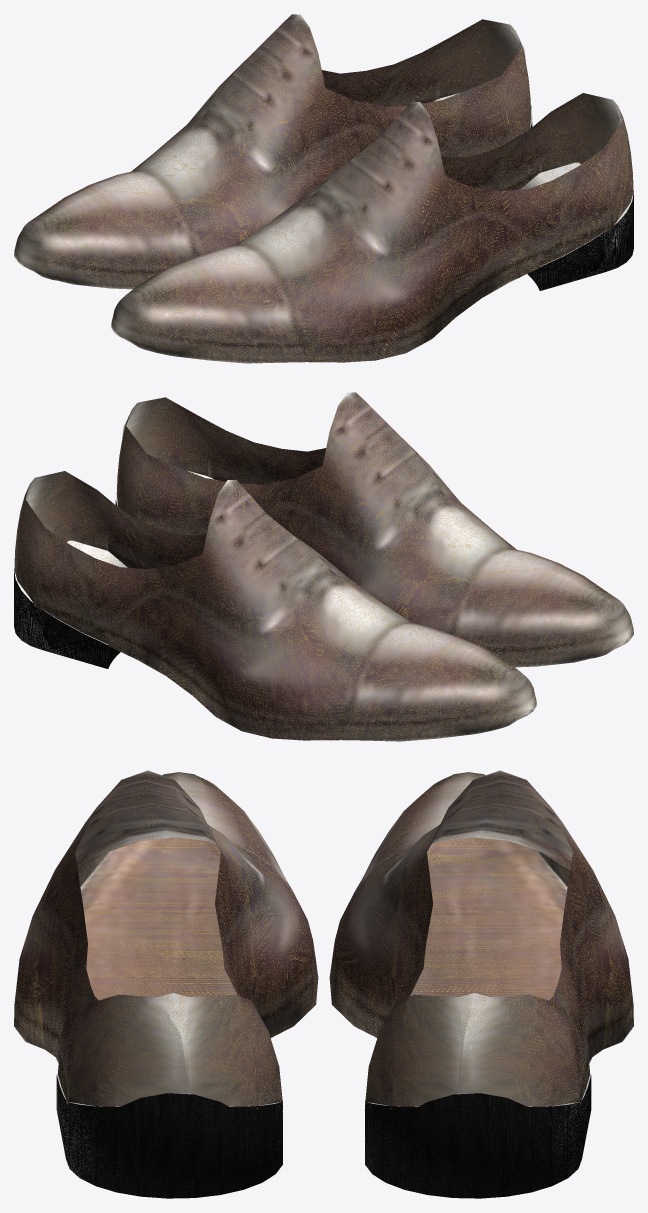
Rendered from shoes2.dae.
The picture shows the model from 3 angles, top to bottom: view 1: azimuth 30°, elevation 25°; view 2: azimuth 150°, elevation 25°; view 3: azimuth 270°, elevation 25°; orthographic projection. The views are drawn at different scales.
Parts seen in each view (by area): view 1: group_1 (×2), group_2; view 2: group_2 (×2), group_1; view 3: group_1 (×2), group_2 (×2).
Boxes of the visible parts, x1,y1,x2,y2 form: group_1 (×2): (111, 93, 633, 363); group_2: (14, 14, 531, 289); group_2 (×2): (14, 471, 536, 741); group_1: (116, 392, 633, 667); group_1 (×2): (14, 770, 318, 1198); group_2 (×2): (329, 770, 633, 1198).
Size of the model in its own units: 11.59 by 8.42 by 4.48.
3 materials, 1 textured.
